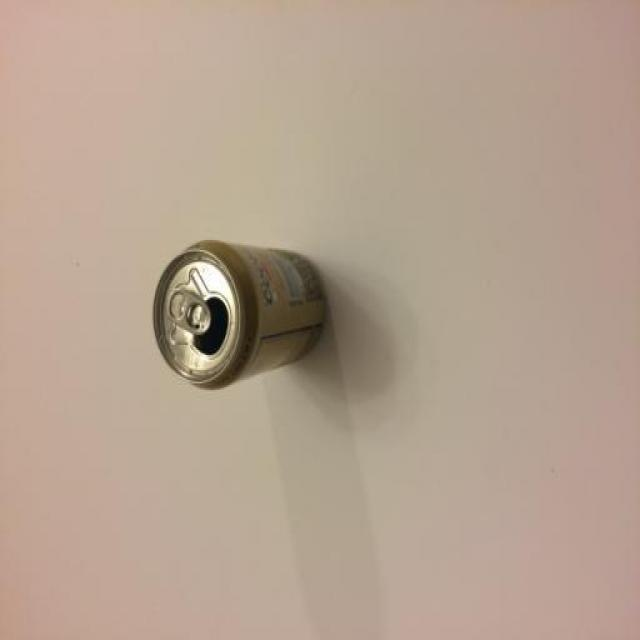metel: (156, 253, 325, 372)
